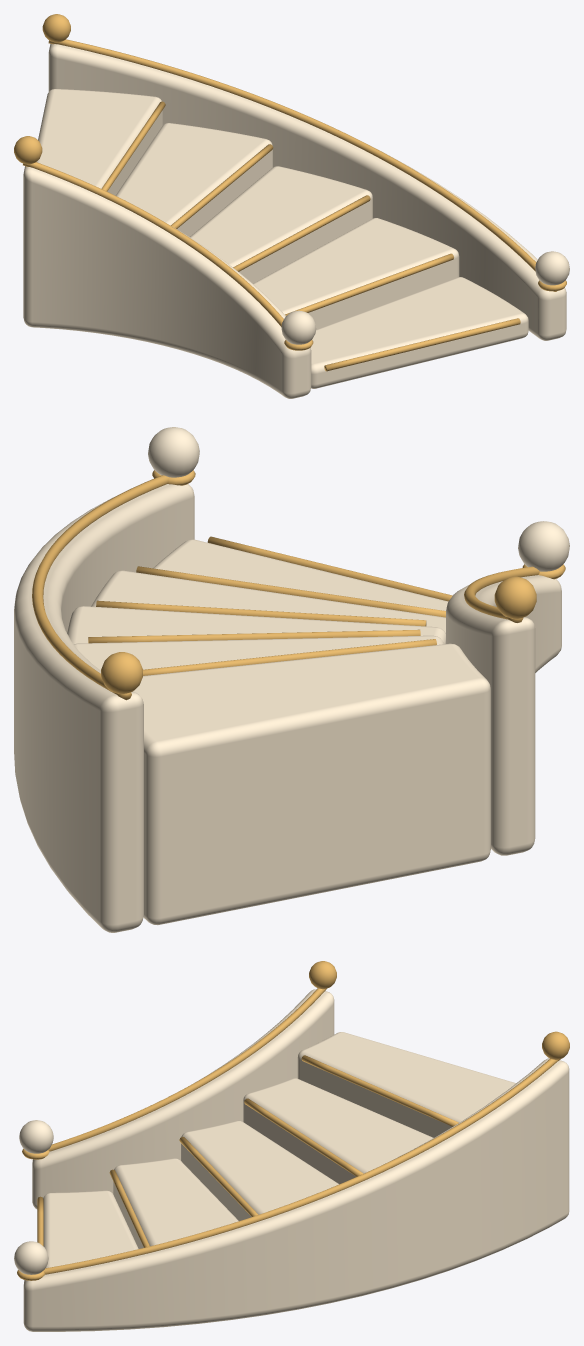
The model's file is pearl-stairs.glb.
3 views of the same model, one above another, from view 1: azimuth 30°, elevation 25°; view 2: azimuth 150°, elevation 25°; view 3: azimuth 270°, elevation 25° (orthographic). The views are drawn at different scales.
Visible parts, largest first — view 1: PearlStairs; view 2: PearlStairs; view 3: PearlStairs.
Boxes of the visible parts, x1=… form: PearlStairs: x1=14, y1=14, x2=569, y2=398; PearlStairs: x1=14, y1=427, x2=569, y2=932; PearlStairs: x1=14, y1=961, x2=569, y2=1331.
Bounding box in the file's own units: 2.93 × 1.29 × 3.53.
